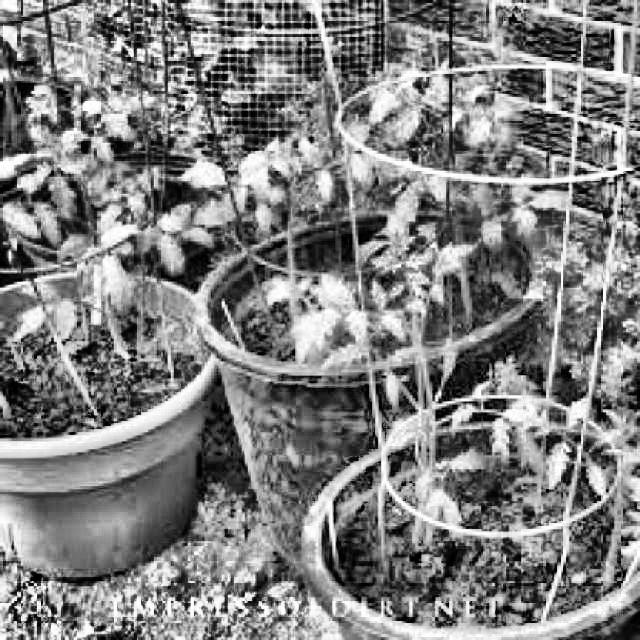plants: (156, 68, 569, 436), (264, 245, 638, 638), (0, 62, 211, 552)
